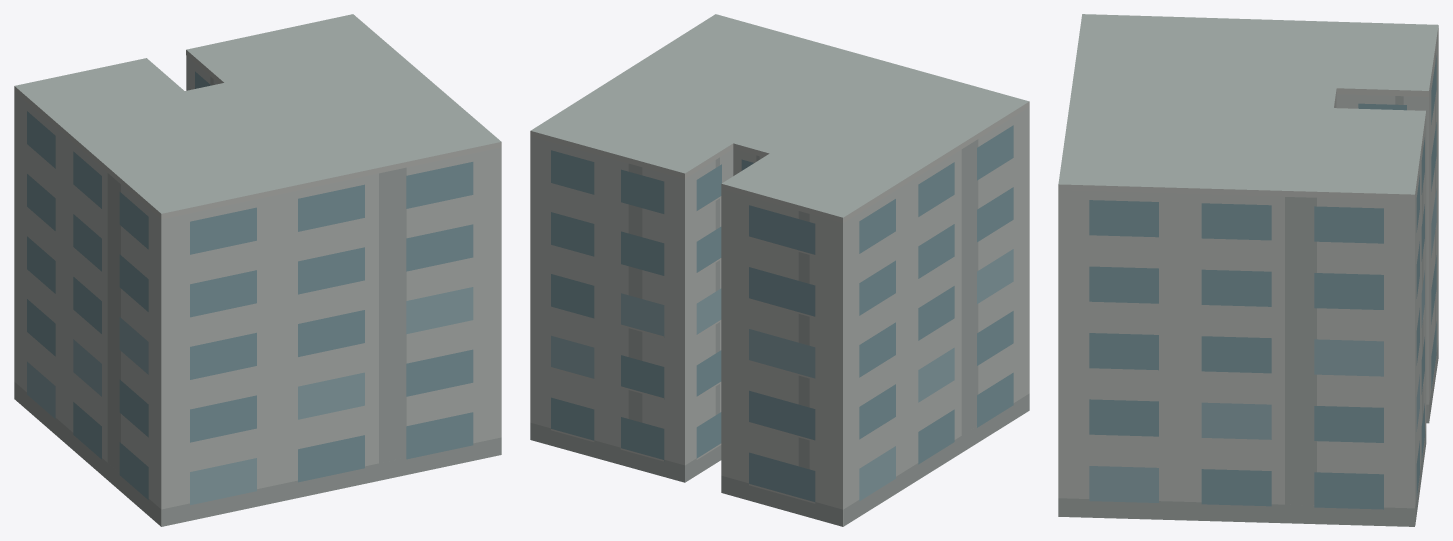
File: survey-upis-32885314.glb
3 views of the same model, side by side, from view 1: azimuth 30°, elevation 25°; view 2: azimuth 150°, elevation 25°; view 3: azimuth 270°, elevation 25° (orthographic). The views are drawn at different scales.
Visible parts, largest first — view 1: survey-upis-32885314.tmp; view 2: survey-upis-32885314.tmp; view 3: survey-upis-32885314.tmp.
Boxes of the visible parts, bbox=[...] form: survey-upis-32885314.tmp: bbox=[14, 14, 501, 526]; survey-upis-32885314.tmp: bbox=[530, 14, 1029, 526]; survey-upis-32885314.tmp: bbox=[1058, 14, 1438, 526].
Size of the model in its own units: 15.74 by 13.5 by 14.01.
